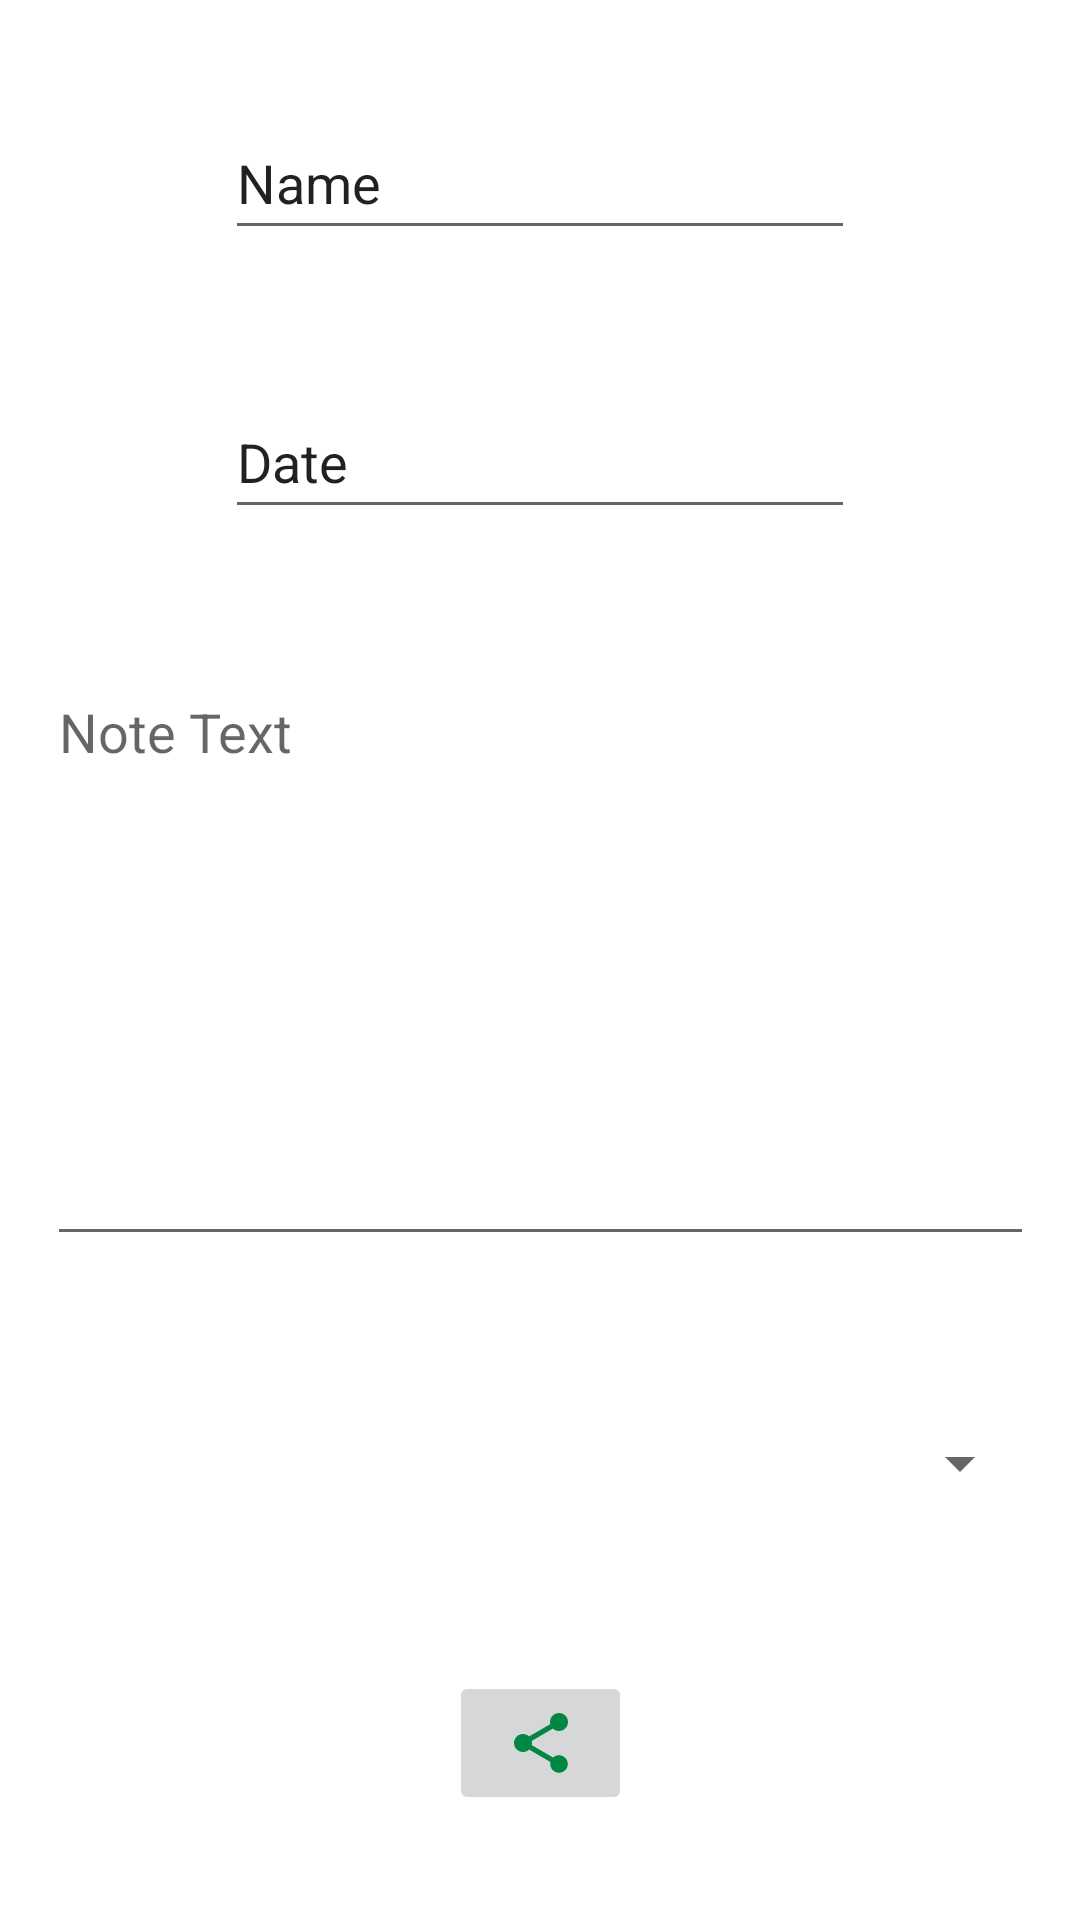

Where to tap for icons on this 1080px×1920px app screen, as (x,y):
share: (540,1743)
